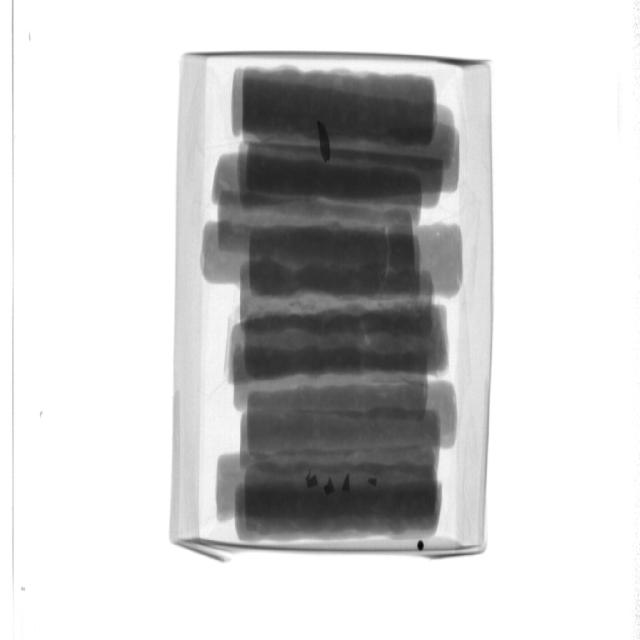ym: (317, 120, 335, 167), (307, 471, 319, 491), (325, 478, 336, 497), (344, 473, 352, 495), (419, 540, 426, 550), (369, 480, 378, 487)
